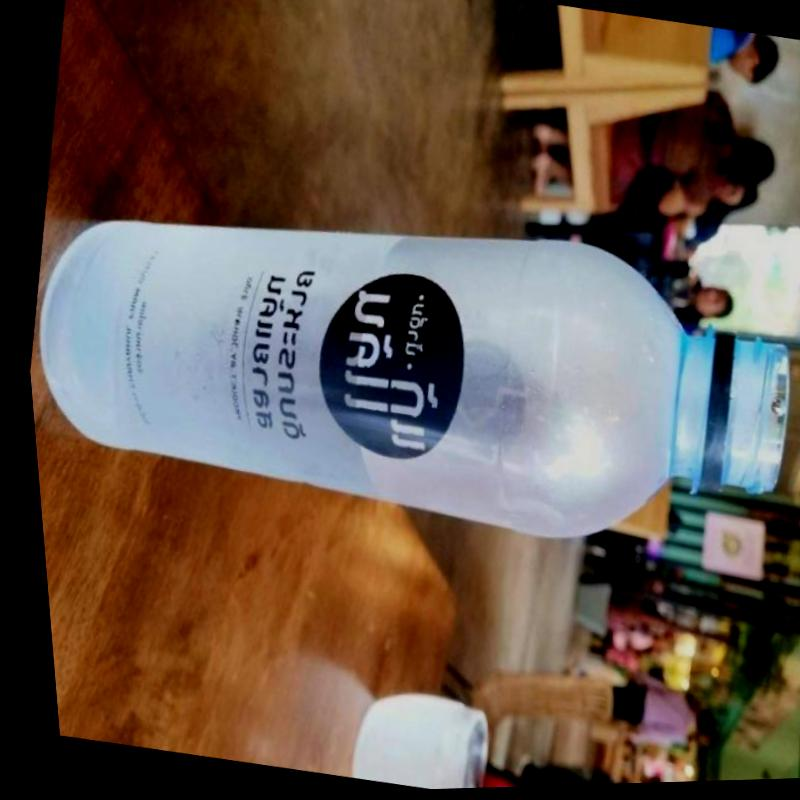botella: (10, 144, 800, 593)
